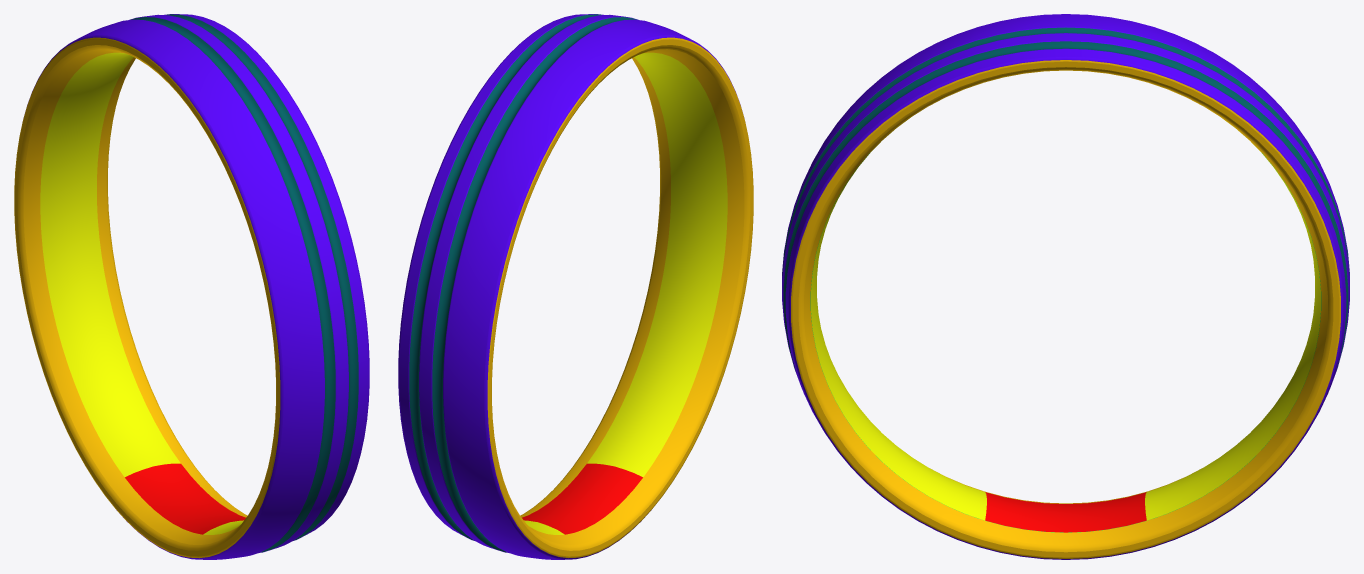
3 renders of one model, left to right at view 1: azimuth 30°, elevation 25°; view 2: azimuth 150°, elevation 25°; view 3: azimuth 270°, elevation 25°, orthographic. The views are drawn at different scales.
Parts seen in each view (by area): view 1: IN1107; view 2: IN1107; view 3: IN1107.
Boxes of the visible parts, x1,y1,x2,y2 form: IN1107: [14, 14, 369, 559]; IN1107: [398, 14, 753, 559]; IN1107: [782, 14, 1349, 559].
Bounding box in the file's own units: 0.004 × 0.0212 × 0.0212.
